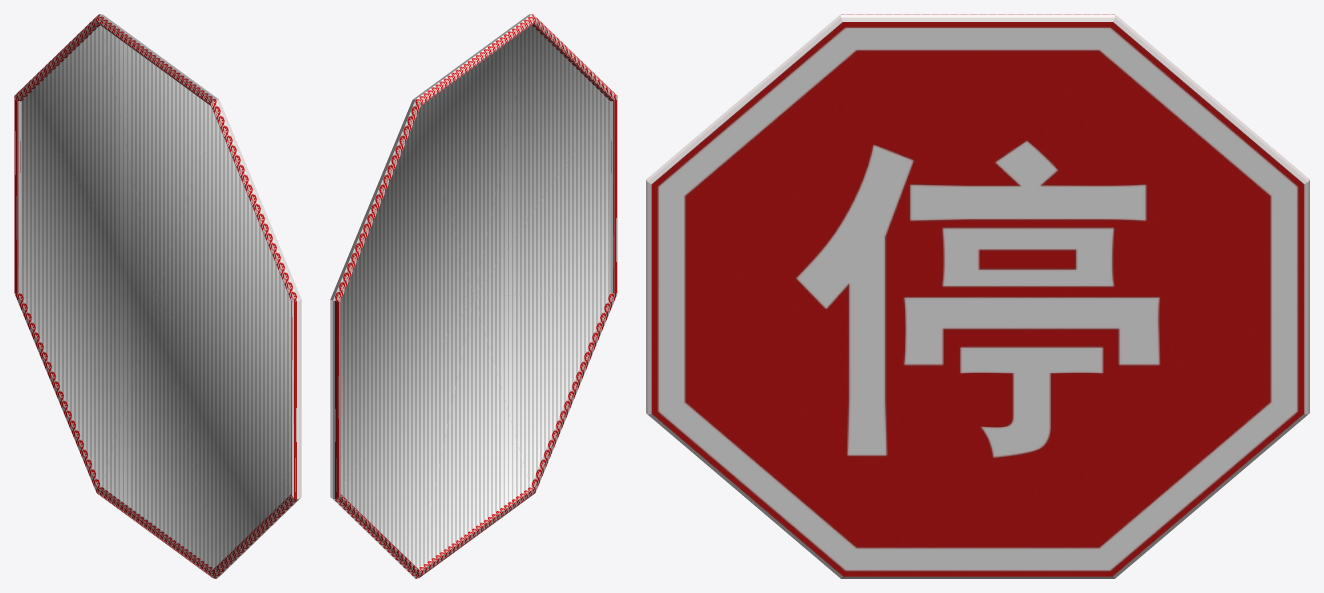
The picture shows the model from 3 angles, left to right: view 1: azimuth 30°, elevation 25°; view 2: azimuth 150°, elevation 25°; view 3: azimuth 270°, elevation 25°; orthographic projection. The views are drawn at different scales.
Visible parts, largest first — view 1: model12; view 2: model12; view 3: model12.
Boxes of the visible parts, x1=… form: model12: x1=14, y1=14, x2=301, y2=578; model12: x1=330, y1=14, x2=617, y2=578; model12: x1=646, y1=14, x2=1309, y2=578.
Bounding box in the file's own units: 0.0218 × 1.05 × 1.12.
2 materials, 2 textured.
